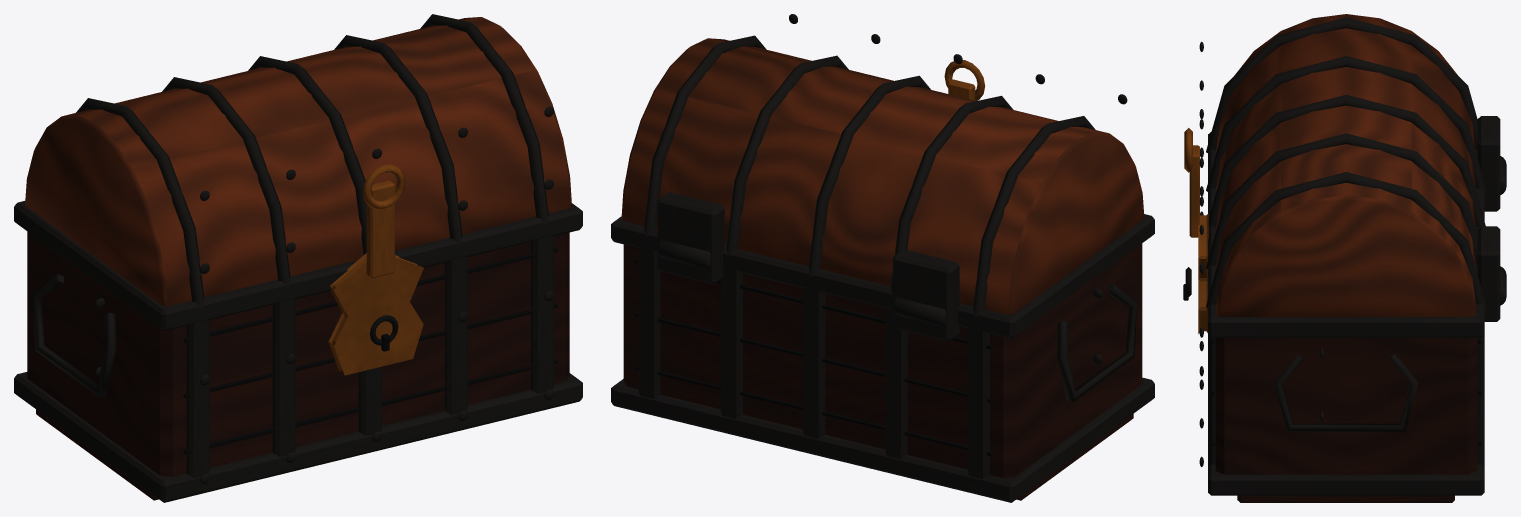
Rendered from antique_treasure_chest_LOD1.glb.
3 views of the same model, side by side, from view 1: azimuth 30°, elevation 25°; view 2: azimuth 150°, elevation 25°; view 3: azimuth 270°, elevation 25° (orthographic). The views are drawn at different scales.
Parts seen in each view (by area): view 1: Closed arched plank lid, Closed plank chest body, Horizontal forged rail, Horizontal forged rail.001, Ornate front lock plate, Lower forged vertical band.001, Lower forged vertical band, Lower forged vertical band.003, Lower forged vertical band.004, Forged lid hoop, Forged lid hoop.004, Forged lid hoop.003 (+10 smaller); view 2: Closed arched plank lid, Closed plank chest body, Horizontal forged rail, Horizontal forged rail.001, Rear strap hinge.001, Rear strap hinge, Lower forged vertical band.002, Lower forged vertical band, Lower forged vertical band.004, Lower forged vertical band.003, Lower forged vertical band.001, Forged lid hoop.003 (+12 smaller); view 3: Closed arched plank lid, Closed plank chest body, Horizontal forged rail.001, Horizontal forged rail, Forged lid hoop.004, Forged lid hoop.001, Forged lid hoop.002, Forged lid hoop, Forged lid hoop.003, Dropped D side handle 1, Rear strap hinge.001, Rear strap hinge (+5 smaller).
Boxes of the visible parts, x1,y1,x2,y2 form: Closed arched plank lid: [25, 17, 571, 306]; Closed plank chest body: [27, 231, 569, 476]; Horizontal forged rail: [14, 372, 582, 502]; Horizontal forged rail.001: [14, 201, 582, 331]; Ornate front lock plate: [328, 253, 423, 375]; Lower forged vertical band.001: [272, 298, 295, 456]; Lower forged vertical band: [186, 319, 209, 477]; Lower forged vertical band.003: [445, 256, 467, 414]; Lower forged vertical band.004: [531, 235, 553, 393]; Forged lid hoop: [76, 98, 204, 308]; Forged lid hoop.004: [420, 14, 548, 224]; Forged lid hoop.003: [334, 35, 462, 245]; Closed arched plank lid: [621, 38, 1144, 314]; Closed plank chest body: [623, 243, 1142, 478]; Horizontal forged rail: [611, 377, 1154, 502]; Horizontal forged rail.001: [611, 214, 1154, 338]; Rear strap hinge.001: [657, 192, 724, 284]; Rear strap hinge: [893, 249, 959, 341]; Lower forged vertical band.002: [803, 287, 825, 438]; Lower forged vertical band: [967, 327, 989, 479]; Lower forged vertical band.004: [638, 247, 660, 398]; Lower forged vertical band.003: [721, 267, 742, 418]; Lower forged vertical band.001: [885, 307, 907, 459]; Forged lid hoop.003: [726, 55, 848, 256]; Closed arched plank lid: [1216, 14, 1475, 316]; Closed plank chest body: [1215, 338, 1476, 474]; Horizontal forged rail.001: [1208, 131, 1484, 337]; Horizontal forged rail: [1208, 335, 1484, 495]; Forged lid hoop.004: [1206, 172, 1486, 307]; Forged lid hoop.001: [1206, 56, 1486, 191]; Forged lid hoop.002: [1208, 94, 1485, 227]; Forged lid hoop: [1206, 17, 1477, 152]; Forged lid hoop.003: [1206, 133, 1477, 268]; Dropped D side handle 1: [1274, 354, 1418, 431]; Rear strap hinge.001: [1477, 226, 1500, 321]; Rear strap hinge: [1477, 116, 1500, 211].
Bounding box in the file's own units: 0.5652 × 0.4025 × 0.371.
Materials: 6 (6 with a texture image).
